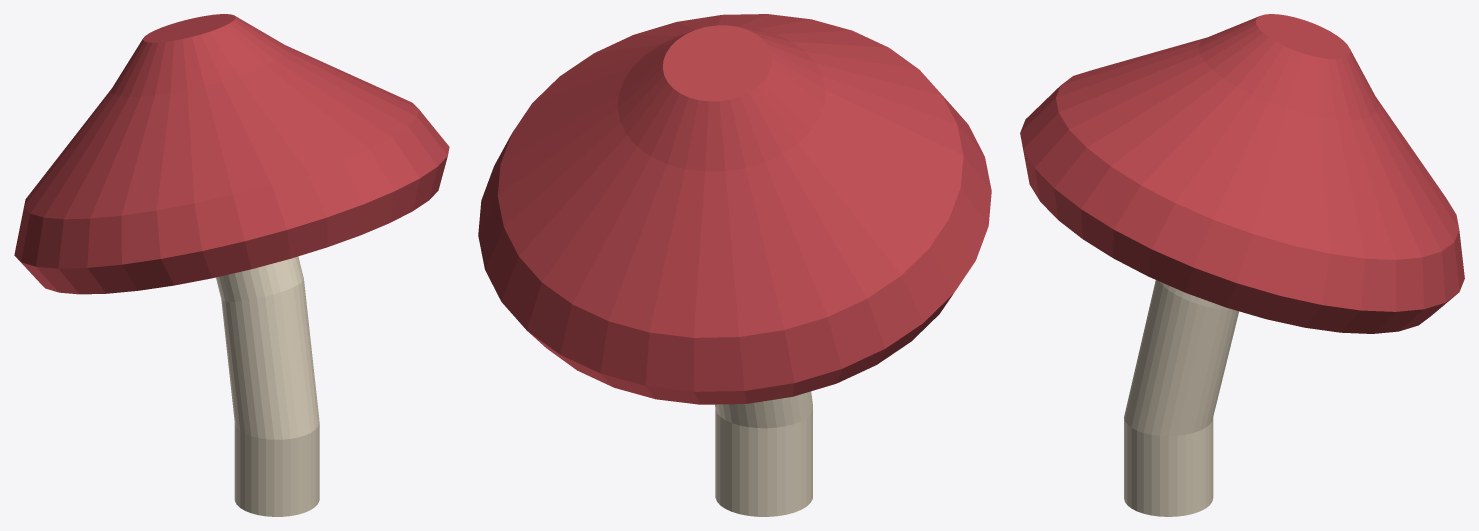
File: mushroom.fbx
3 views of the same model, side by side, from view 1: azimuth 30°, elevation 25°; view 2: azimuth 150°, elevation 25°; view 3: azimuth 270°, elevation 25° (orthographic). The views are drawn at different scales.
Parts seen in each view (by area): view 1: Cylinder.002; view 2: Cylinder.002; view 3: Cylinder.002.
Part boxes in pixels (x1,y1,x2,y2): Cylinder.002: (14,14,449,516); Cylinder.002: (478,14,991,516); Cylinder.002: (1020,14,1464,516).
Size of the model in its own units: 21.63 by 24.92 by 22.71.
